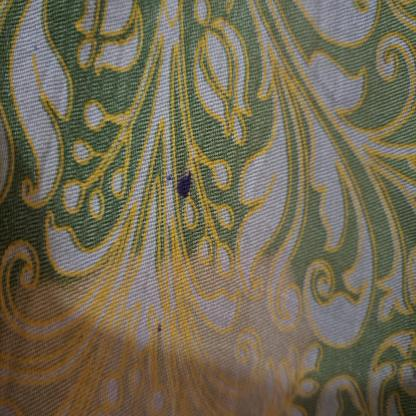spot: (165, 164, 197, 204), (154, 310, 167, 340)
